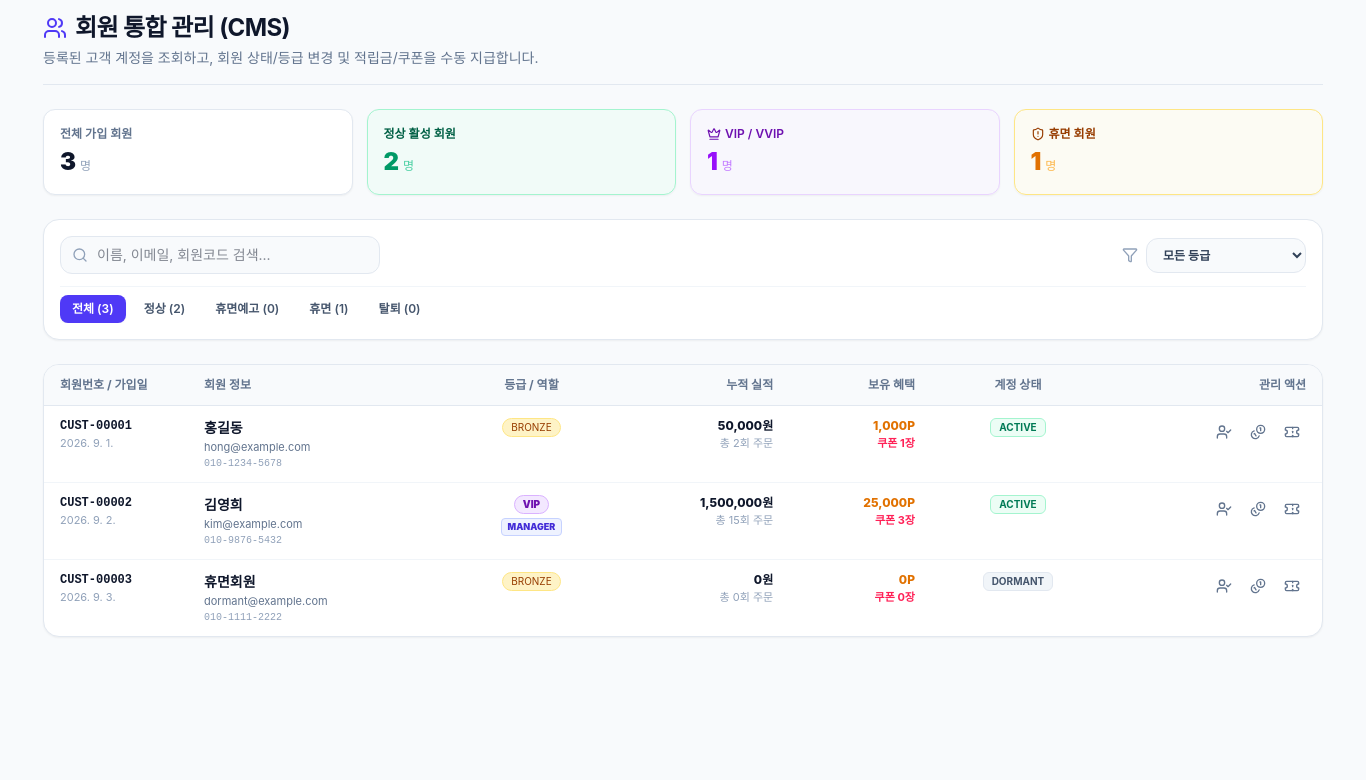
Test: AdminUserListViewer Component › 등급 필터 선택 시 해당 등급 회원만 필터링된다
Select "VIP (최우수)" in the dropdown named "회원 등급 필터" at (1226, 255), box left=1146, top=238, right=1306, bottom=272
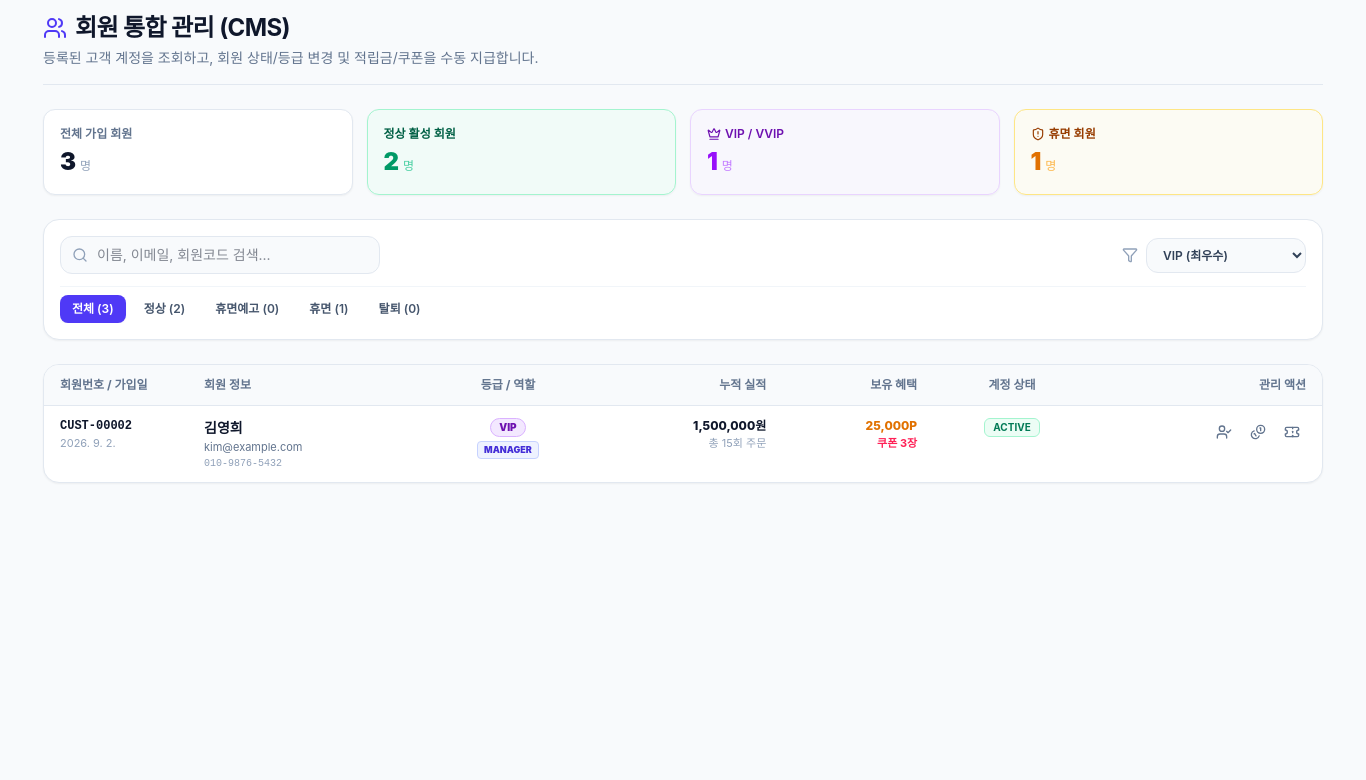
Expected: the text "김영희" is shown, left=204, top=419, right=243, bottom=436
Result: the text "홍길동" is gone
